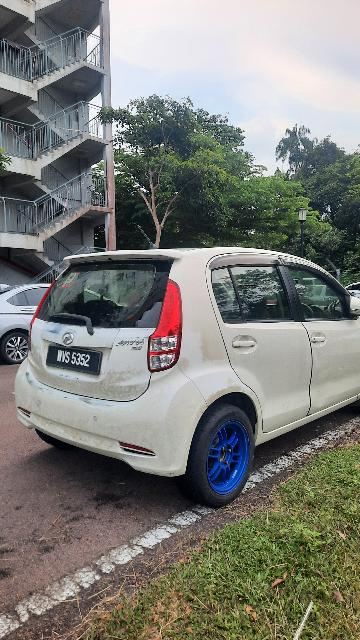License_Plate: (43, 342, 105, 381)
car: (15, 251, 360, 501)
